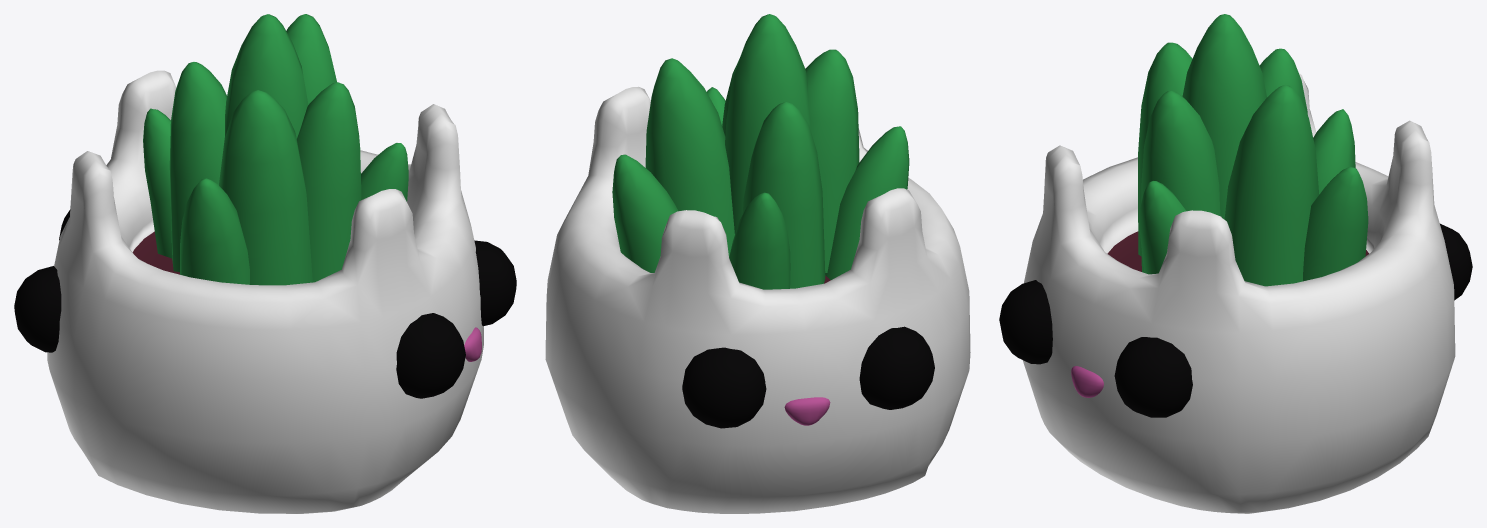
The model's file is plantA.glb.
3 renders of one model, left to right at view 1: azimuth 30°, elevation 25°; view 2: azimuth 150°, elevation 25°; view 3: azimuth 270°, elevation 25°, orthographic. The views are drawn at different scales.
Visible parts, largest first — view 1: plantA_colourA, plantA; view 2: plantA_colourA, plantA; view 3: plantA_colourA, plantA.
Part boxes in pixels (box(x1,y1,x2,y2)): plantA_colourA: box(47, 70, 483, 513); plantA: box(14, 14, 516, 398); plantA_colourA: box(545, 86, 970, 513); plantA: box(612, 14, 934, 428); plantA_colourA: box(1022, 65, 1455, 513); plantA: box(999, 14, 1472, 417).
Bounding box in the file's own units: 0.415 × 0.4392 × 0.4206.
Materials: 2 (1 with a texture image).
